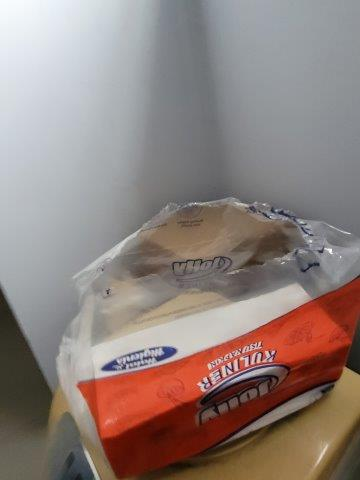plastik: (44, 200, 357, 382)
